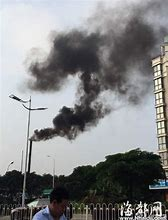smoke: (30, 36, 120, 93), (28, 105, 104, 141)
